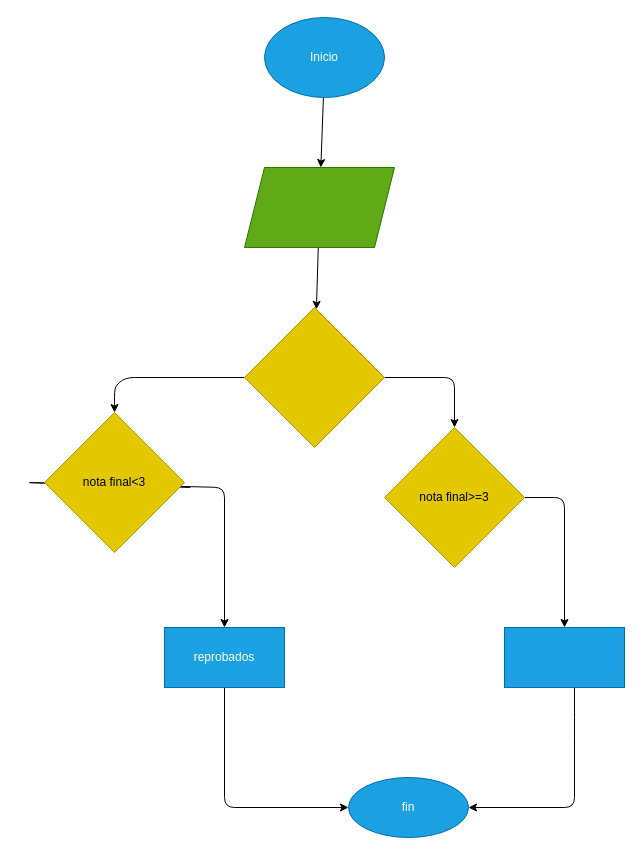
Some shapes in this 642 by 855 pixel diagram are drawn without their labels. Each missing label, with the centre of its shape:
"aprobados" belongs at (x=564, y=657).
"nota 1+nota2+nota3\3" belongs at (x=314, y=377).
"nota1,nota2, nota3" belongs at (x=319, y=207).
